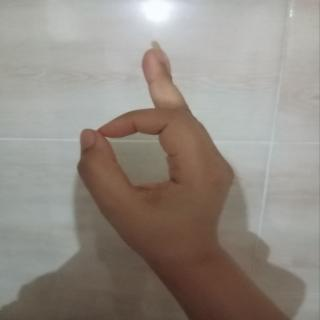Space: (71, 33, 238, 288)
